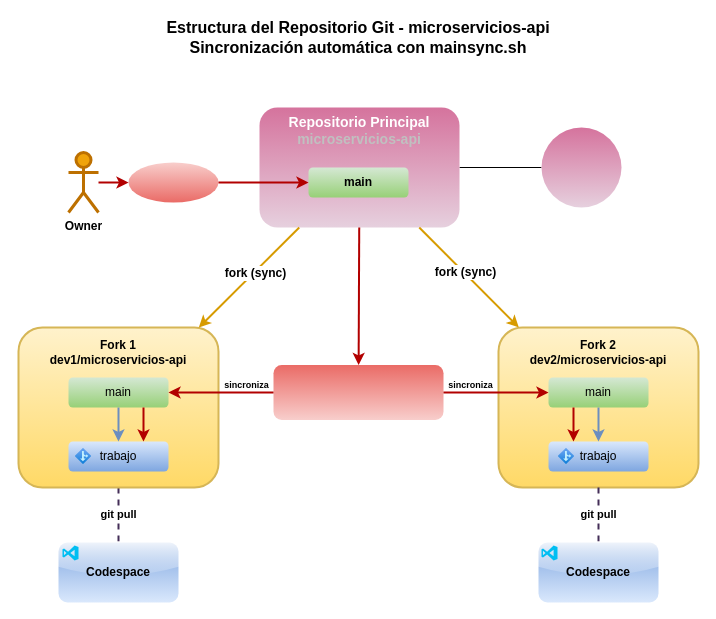
The diagram is 716 pixels wide and 619 high, and some of its shapes have lost their labels. Each missing label, with the centre of its shape:
"CORE" belongs at (x=581, y=167).
"mainsync.sh Script de Sincronización" belongs at (x=358, y=392).
"⚡ CAMBIO" belongs at (x=173, y=182).
